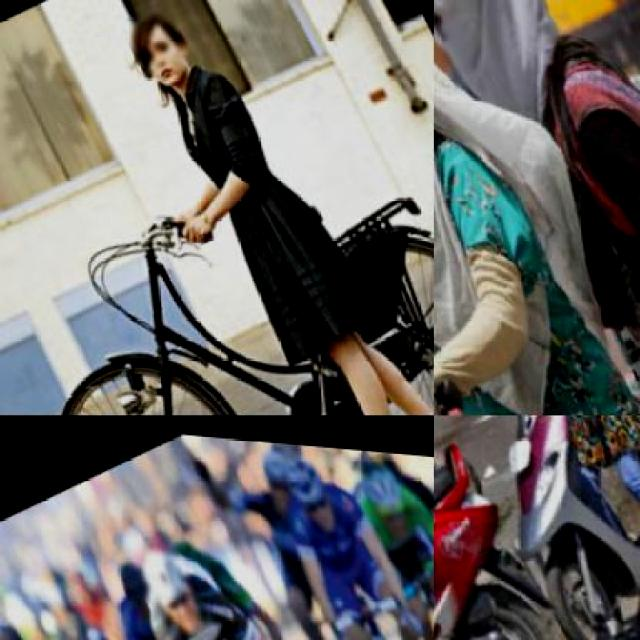With Helmet: (119, 522, 223, 638), (270, 436, 355, 542), (348, 442, 430, 544)
Without Helmet: (434, 0, 572, 94), (115, 0, 197, 77)
